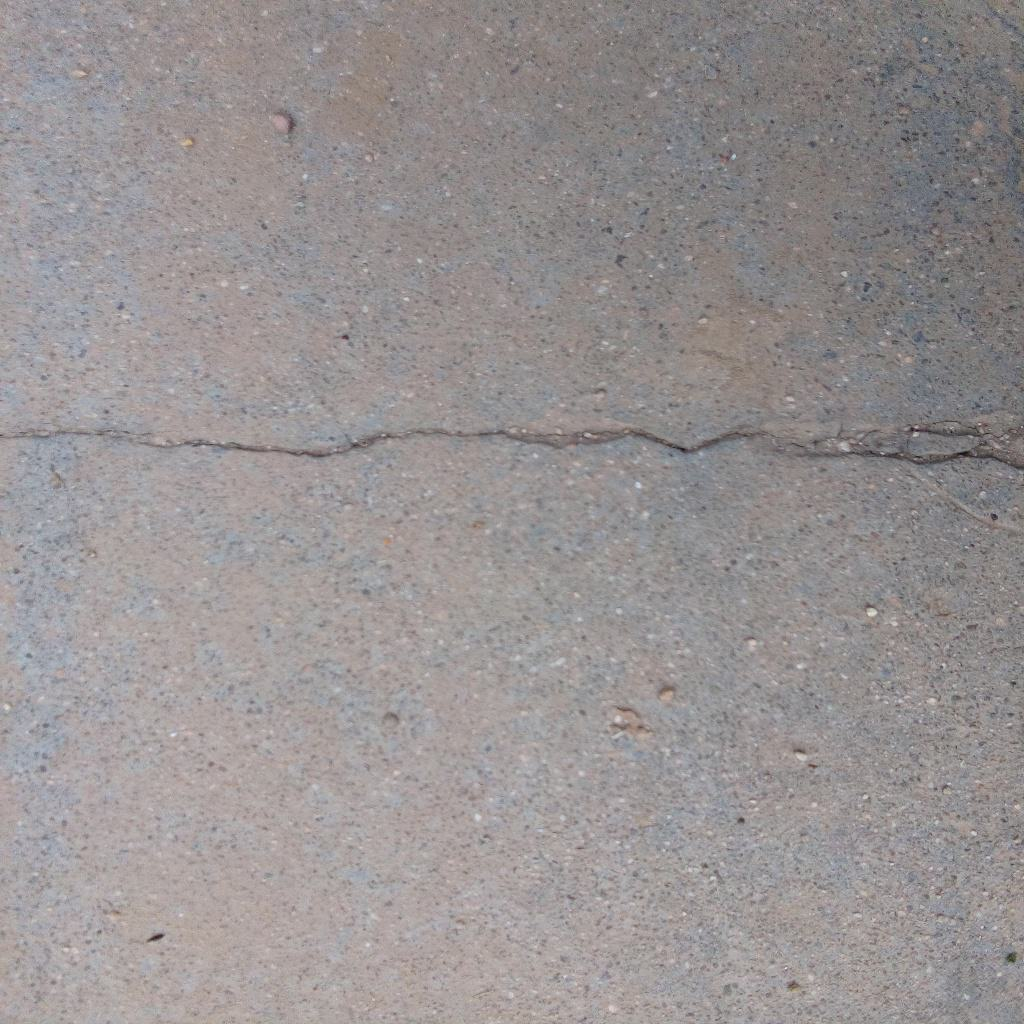Crack: (1, 412, 1024, 476)
